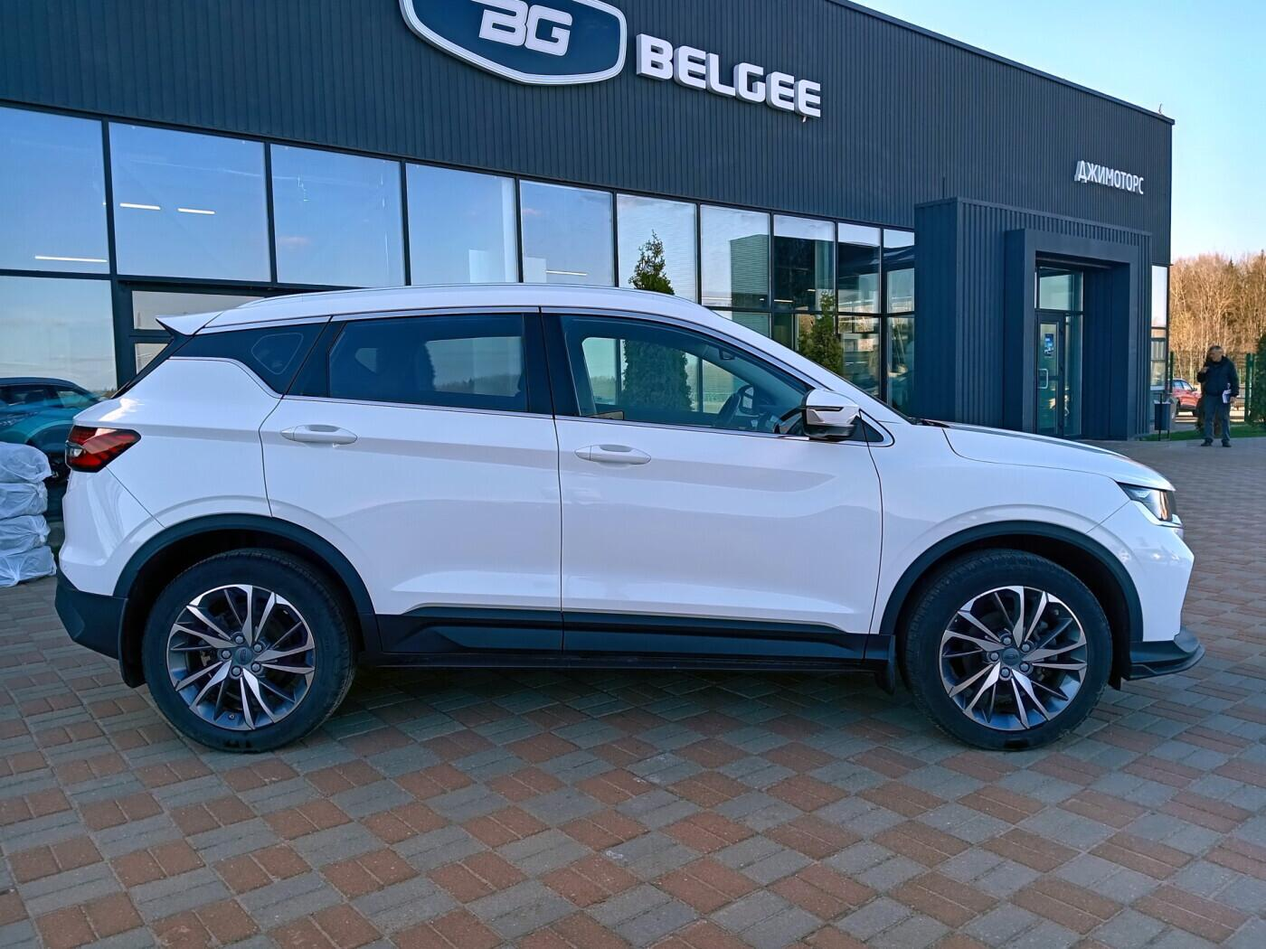Coolray_2019-2023: (47, 288, 1207, 760)
